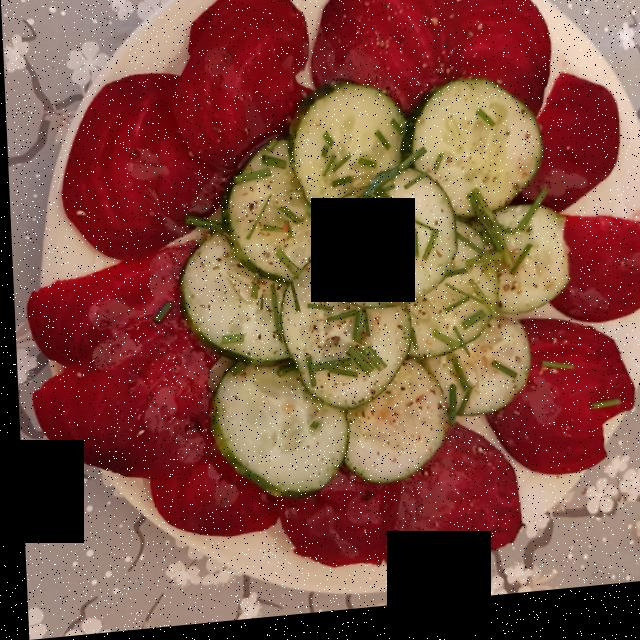beetroot-raw: (34, 0, 640, 582)
chives: (223, 142, 525, 406)
cucumber: (182, 89, 564, 498)
